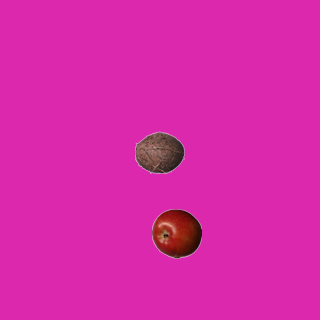Apple Braeburn: (151, 208, 201, 258)
Cocos: (134, 127, 184, 177)
